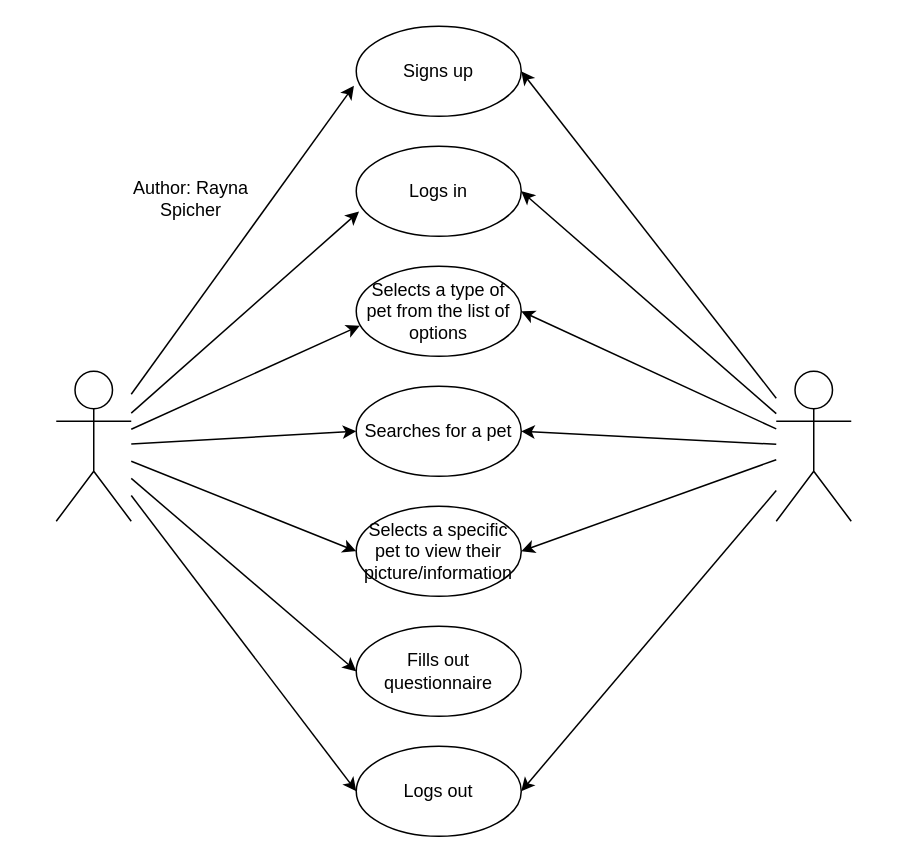
Image size: 924x863. Some labels were removed from this diagram. The centre of each missing label's shape, as x and y in pixels:
"Pet Lover (not looking to adopt)" goes at pixel 813 445.
"Potential Adopter" goes at pixel 93 445.
